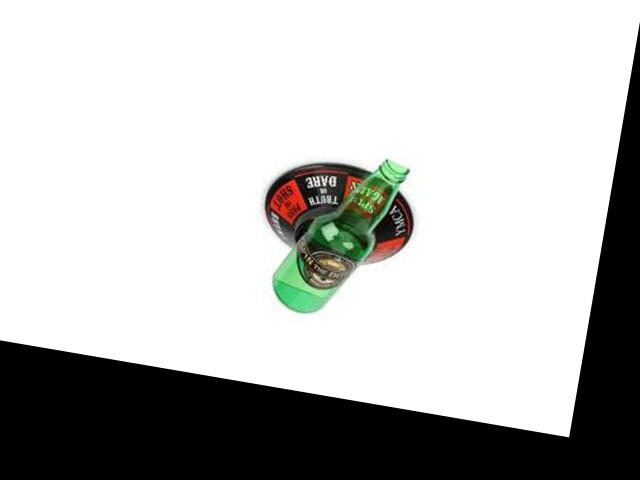beer: (266, 143, 409, 325)
